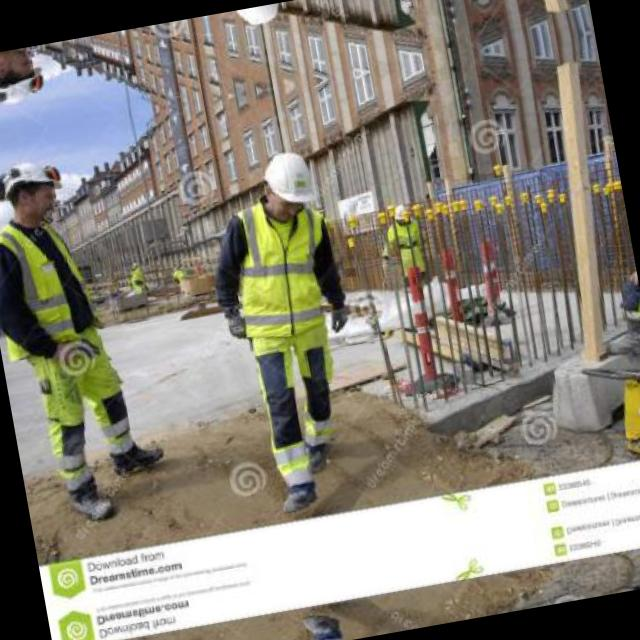helmet: (0, 147, 72, 230), (251, 142, 319, 226), (0, 44, 54, 118), (227, 2, 287, 36), (387, 200, 412, 228)
